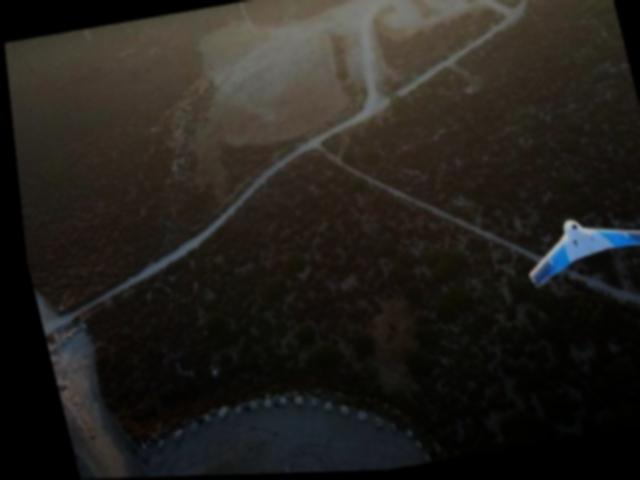iha: (507, 202, 640, 295)
